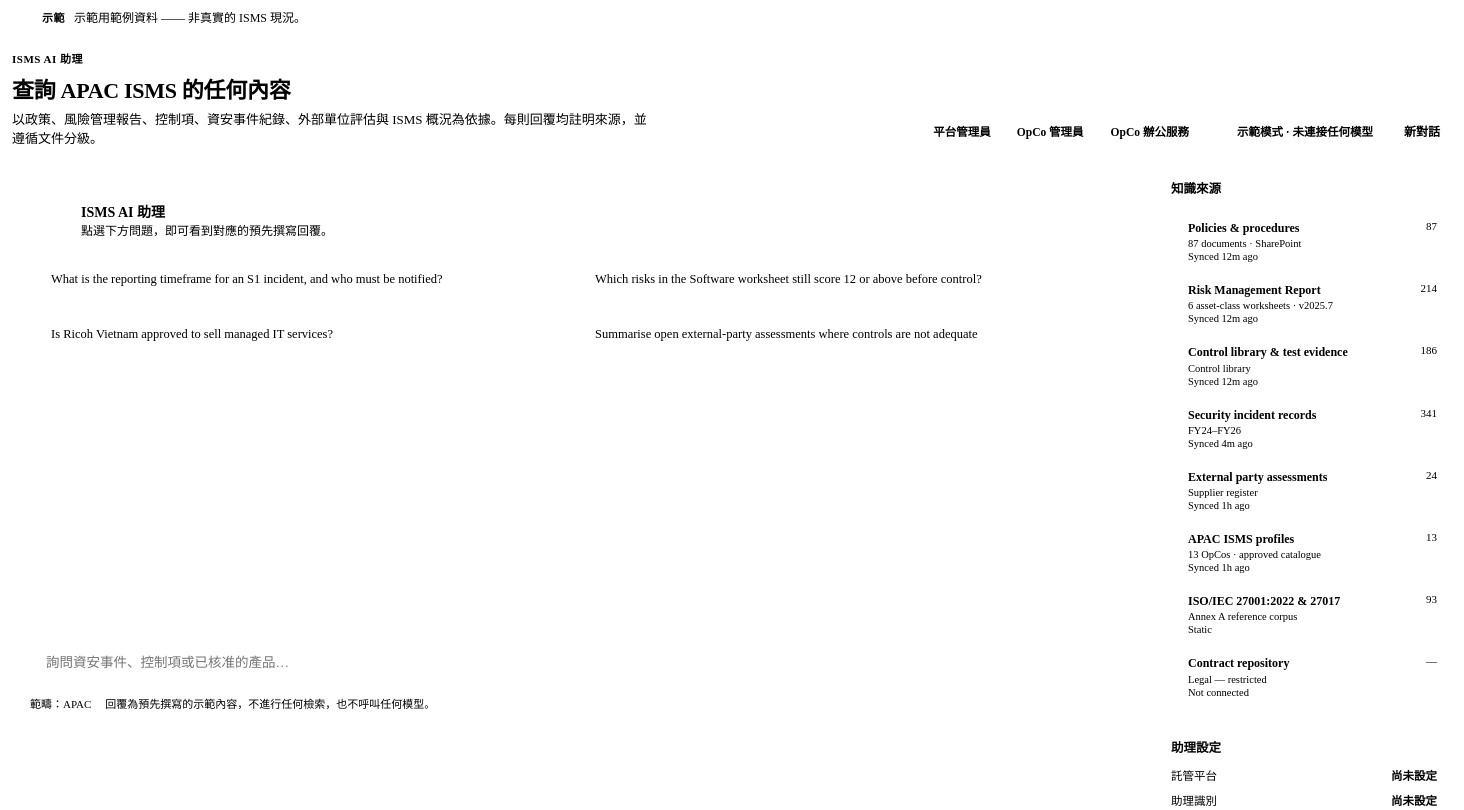
Test: ai assistant — suggested prompts render fixture answers › Is Ricoh Vietnam approved to sell managed IT services? resolves to an answer with sources
Click the button "Is Ricoh Vietnam approved to sell managed IT services?": (303,334) [36,312,570,357]
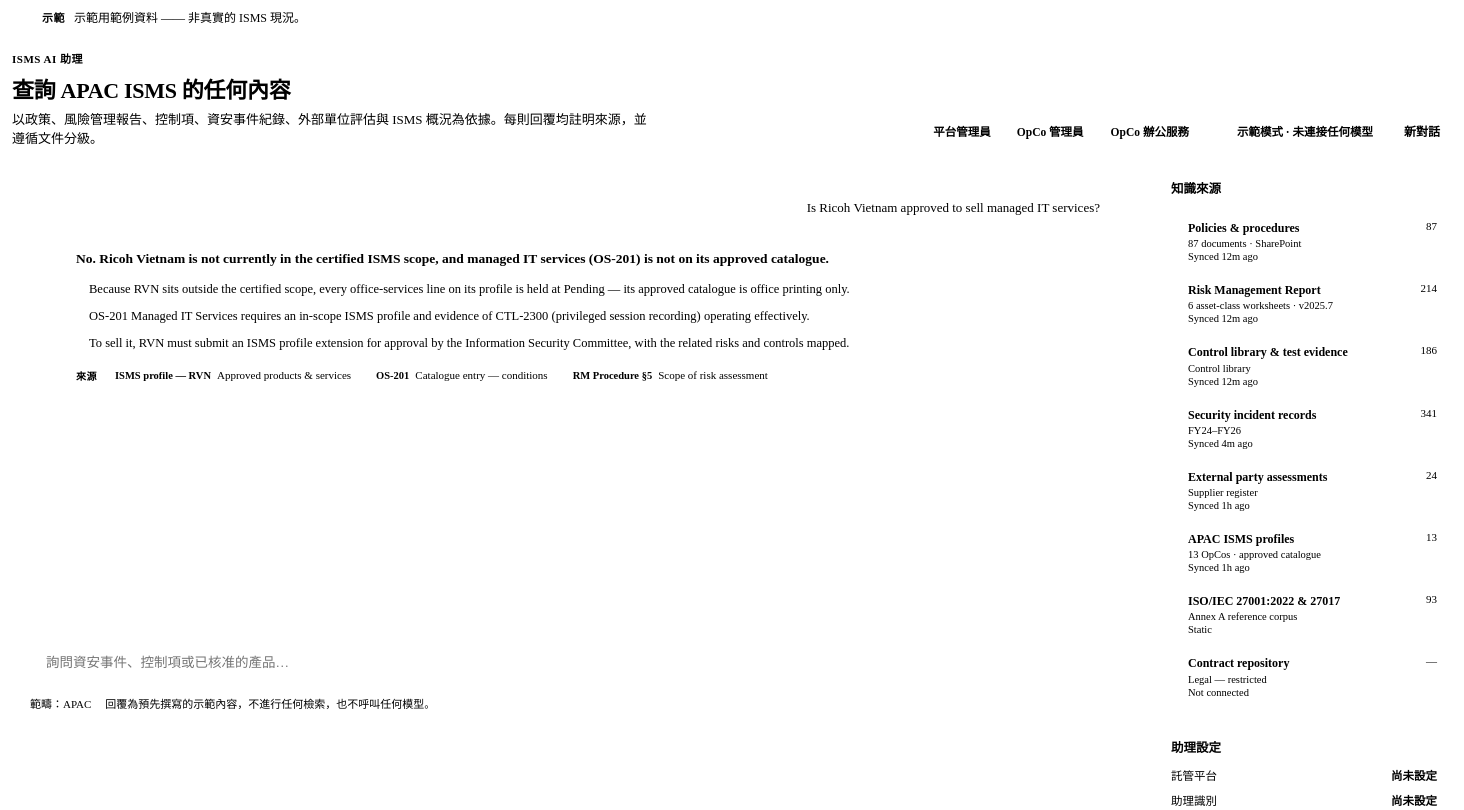
Expected: the text "Is Ricoh Vietnam approved to sell managed IT services?" is shown, [807,200,1100,215]
Expected: the text "來源" is shown, [76,368,97,383]
